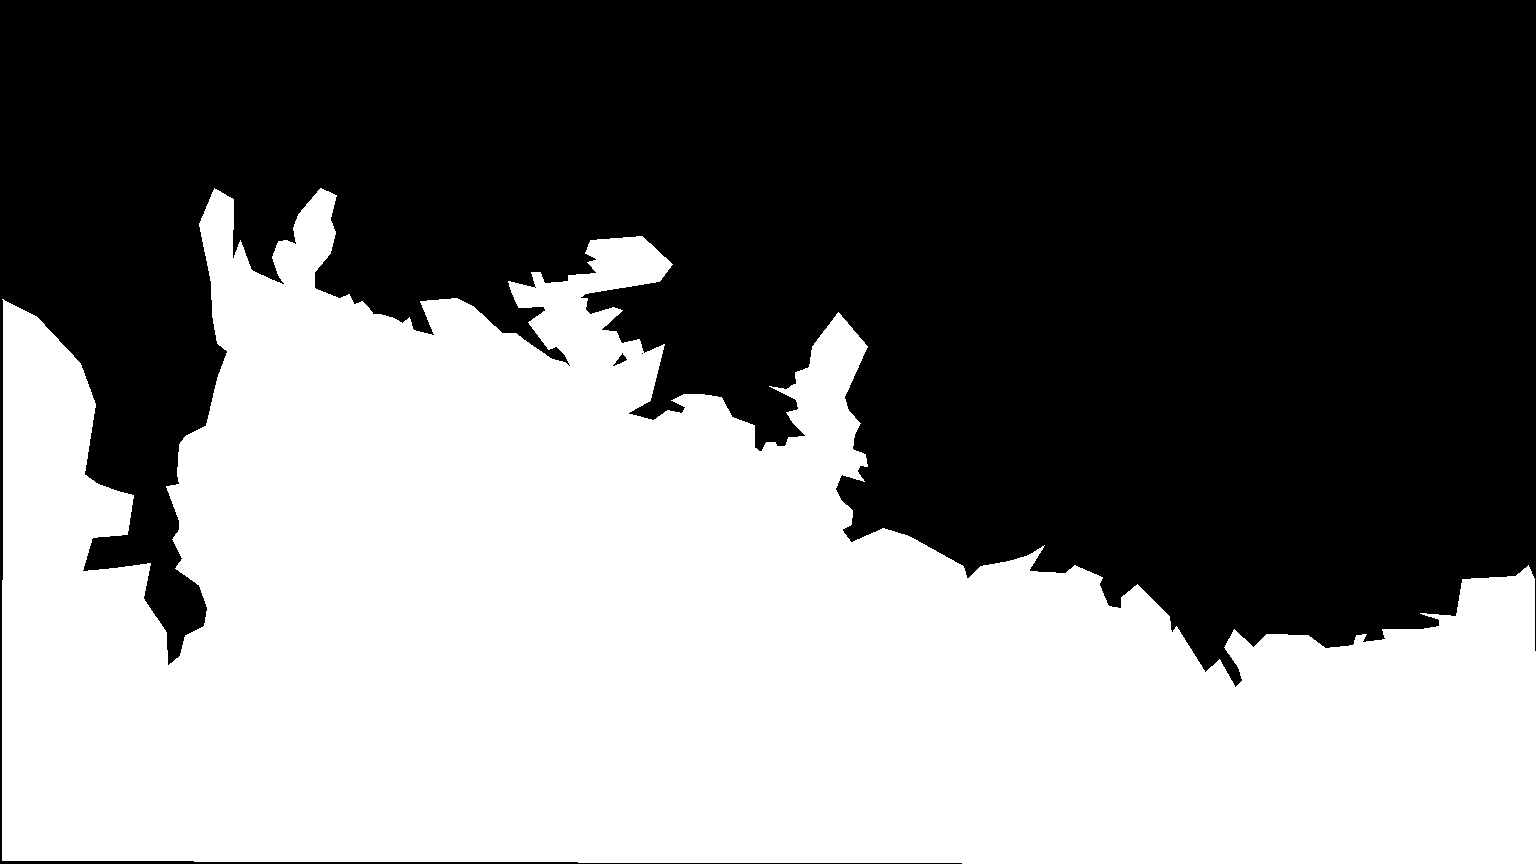Fire: (218, 233, 784, 807)
